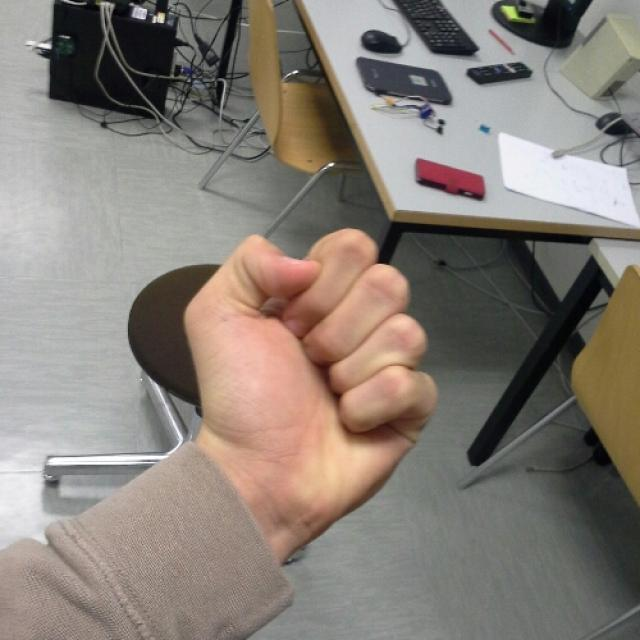fist: (181, 232, 440, 509)
